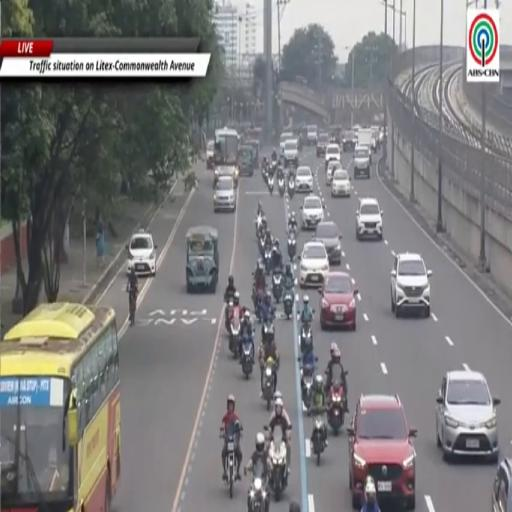bus: (0, 303, 120, 511), (215, 127, 239, 185), (215, 127, 239, 166)
car: (347, 395, 417, 509), (436, 371, 500, 461), (391, 253, 432, 317), (319, 271, 358, 330), (127, 229, 157, 276), (299, 240, 329, 287), (315, 220, 341, 264), (356, 198, 383, 239), (492, 458, 512, 512), (214, 176, 236, 212), (301, 196, 324, 230), (213, 166, 239, 188), (354, 146, 371, 179), (331, 169, 350, 197), (295, 167, 313, 193), (283, 138, 299, 167), (325, 143, 341, 169), (326, 160, 342, 185), (280, 133, 295, 156), (342, 131, 357, 152), (316, 133, 329, 157), (371, 125, 380, 152), (307, 125, 317, 146), (207, 140, 214, 169)
jeepney: (186, 227, 218, 293), (239, 144, 254, 175), (246, 139, 260, 168)
motorcycle: (221, 421, 242, 498), (269, 427, 287, 501), (328, 381, 344, 435), (249, 471, 269, 511), (312, 412, 326, 466), (263, 358, 276, 410), (301, 365, 314, 410), (241, 336, 254, 379), (229, 311, 240, 357), (300, 323, 312, 354), (127, 287, 136, 326), (254, 288, 264, 323), (283, 288, 294, 319), (273, 270, 282, 302), (225, 298, 233, 334), (262, 320, 274, 342), (255, 214, 266, 237), (288, 231, 296, 261), (264, 249, 272, 275), (287, 221, 297, 238), (288, 177, 296, 198), (258, 235, 265, 257), (278, 178, 285, 197), (268, 176, 273, 195), (262, 167, 267, 184)
truck: (358, 128, 372, 163)
